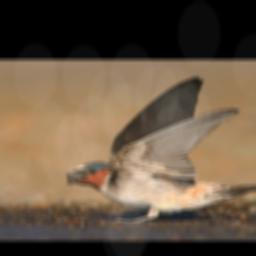Swallow: (64, 76, 256, 223)
